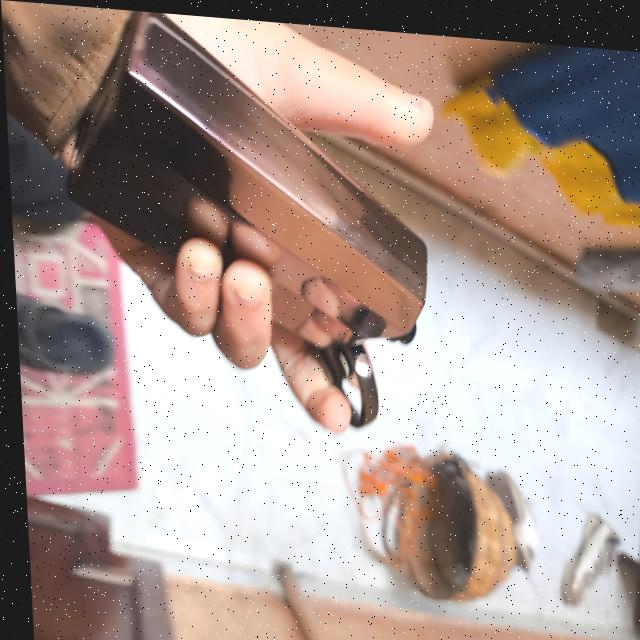Afnan: (55, 5, 434, 428)
